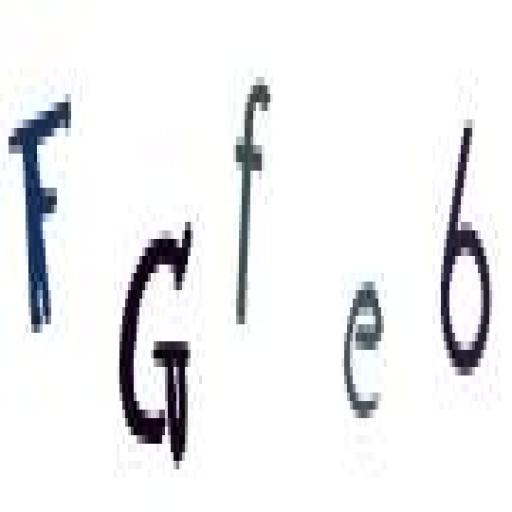6: (432, 107, 496, 389)
F: (6, 86, 76, 354)
G: (112, 194, 198, 483)
e: (340, 268, 389, 439)
f: (230, 62, 276, 352)
